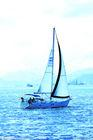fanchuan: (21, 25, 70, 111)
